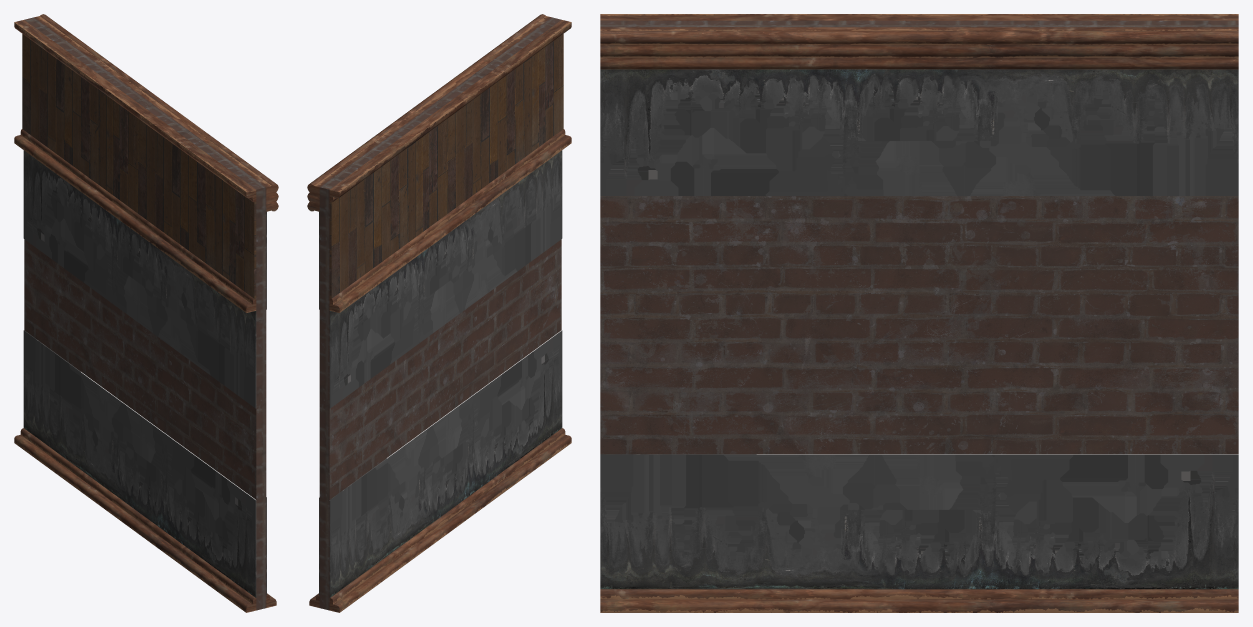
File: Kit_BricksOldWoodWindowBottom.fbx
3 renders of one model, left to right at view 1: azimuth 30°, elevation 25°; view 2: azimuth 150°, elevation 25°; view 3: azimuth 270°, elevation 25°, orthographic. The views are drawn at different scales.
Parts seen in each view (by area): view 1: Kit_BricksOldWoodWindowBottom; view 2: Kit_BricksOldWoodWindowBottom; view 3: Kit_BricksOldWoodWindowBottom.
Part boxes in pixels (x1,y1,x2,y2): Kit_BricksOldWoodWindowBottom: [14, 14, 278, 612]; Kit_BricksOldWoodWindowBottom: [307, 14, 571, 612]; Kit_BricksOldWoodWindowBottom: [600, 14, 1238, 612].
Size of the model in its own units: 12.68 by 158 by 157.
